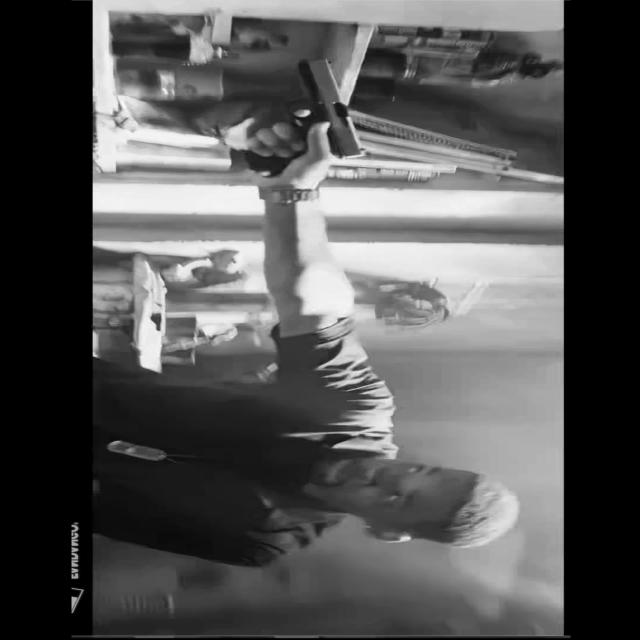weapons: (233, 48, 391, 186)
